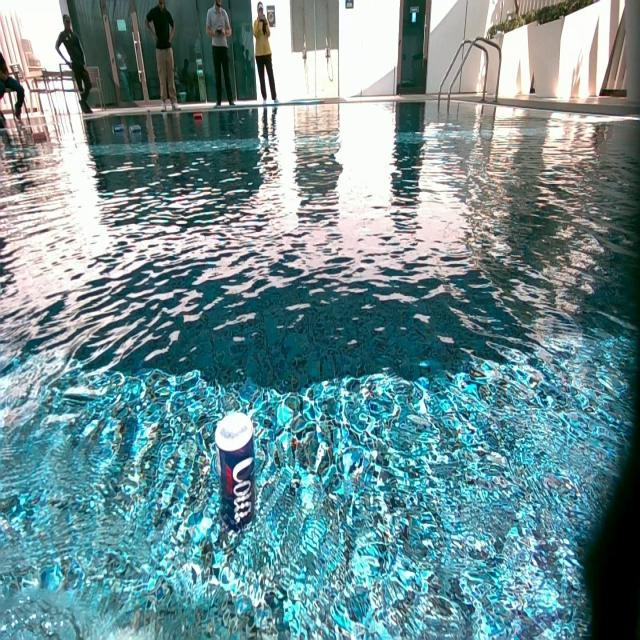Cans: (216, 410, 261, 520), (112, 125, 124, 137), (130, 125, 142, 135), (192, 114, 202, 122), (247, 108, 254, 116)
